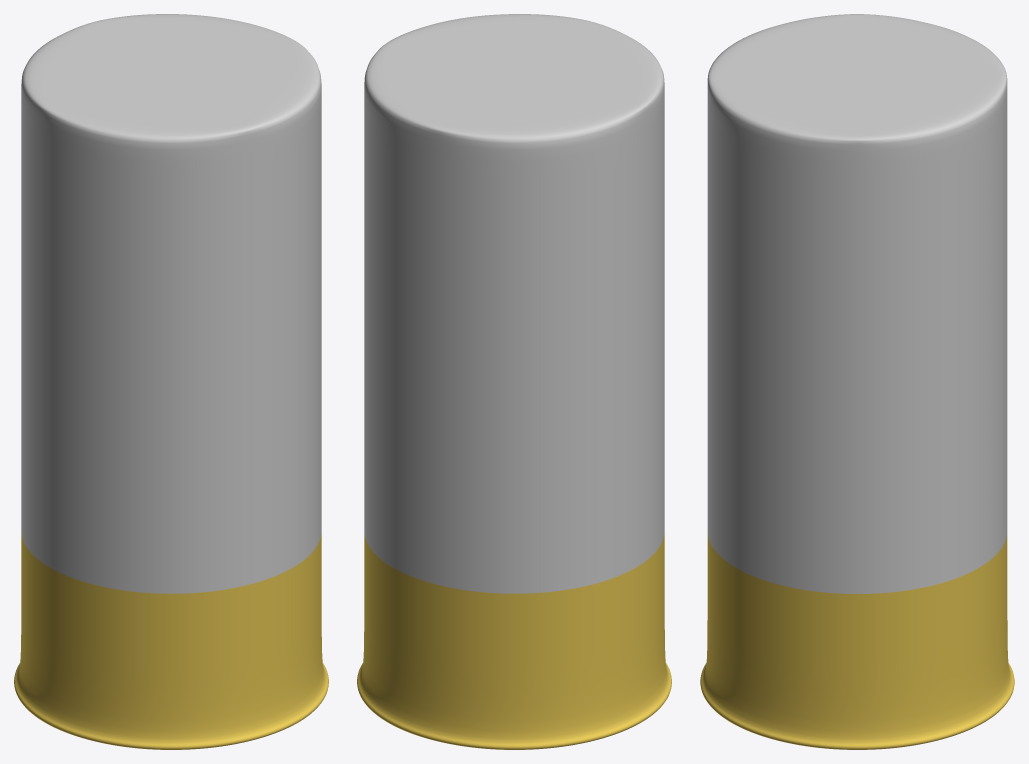
The model's file is gold shotgun shell.fbx.
3 renders of one model, left to right at view 1: azimuth 30°, elevation 25°; view 2: azimuth 150°, elevation 25°; view 3: azimuth 270°, elevation 25°, orthographic.
Parts seen in each view (by area): view 1: Cylinder; view 2: Cylinder; view 3: Cylinder.
Boxes of the visible parts, left/top/right/bottom form: Cylinder: left=14, top=14, right=328, bottom=749; Cylinder: left=357, top=14, right=671, bottom=749; Cylinder: left=700, top=14, right=1014, bottom=749.
Bounding box in the file's own units: 162 × 347 × 162.
